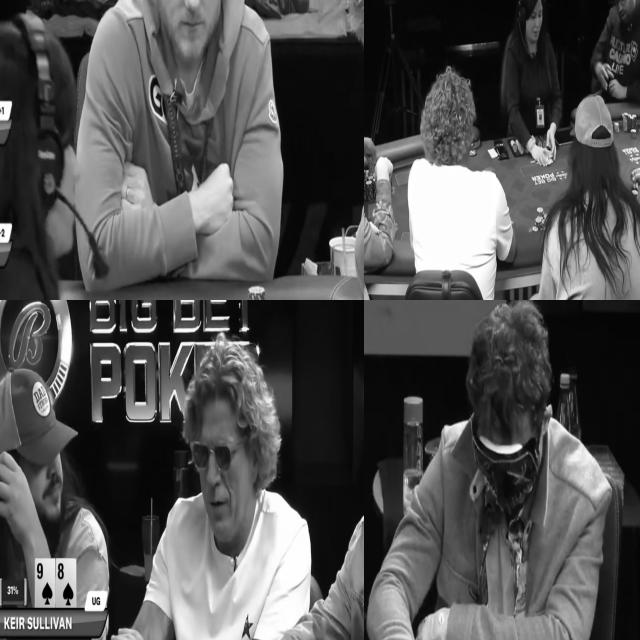8S: (56, 560, 76, 608)
9S: (36, 560, 55, 607)
